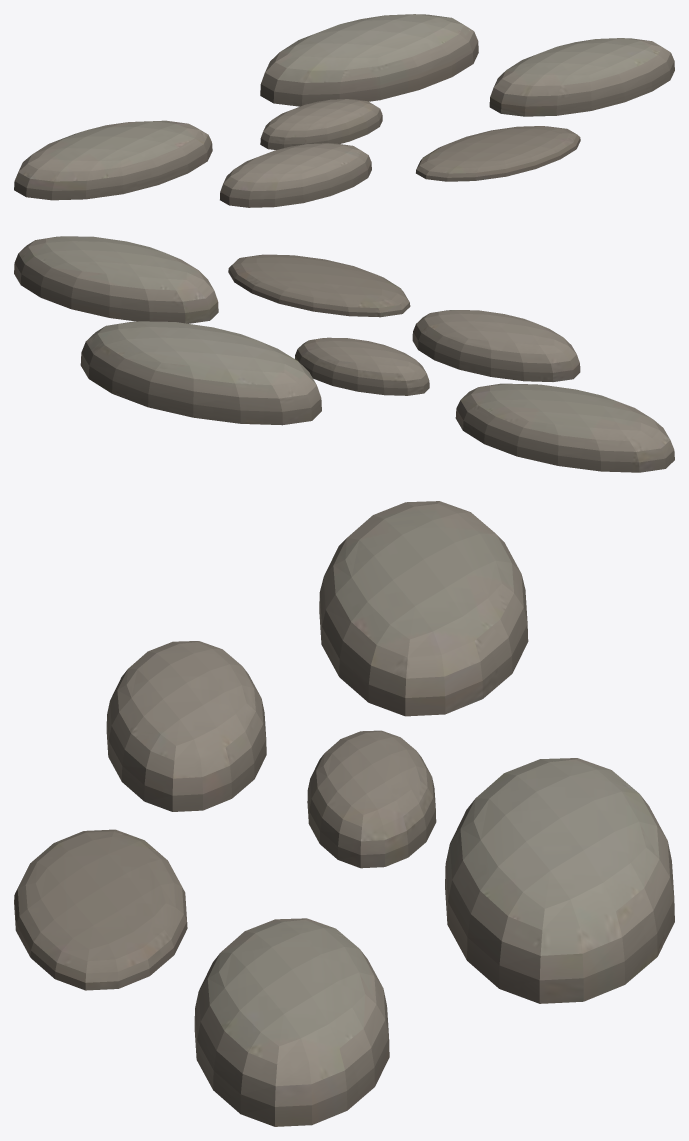
File: pebble_edge.glb
The picture shows the model from 3 angles, top to bottom: view 1: azimuth 30°, elevation 25°; view 2: azimuth 150°, elevation 25°; view 3: azimuth 270°, elevation 25°; orthographic projection. The views are drawn at different scales.
Visible parts, largest first — view 1: pebble_edge; view 2: pebble_edge; view 3: pebble_edge.
Boxes of the visible parts, x1,y1,x2,y2 form: pebble_edge: (14,14,674,207); pebble_edge: (14,236,674,472); pebble_edge: (14,501,674,1126).
Size of the model in its own units: 1.08 by 0.0731 by 0.51.
Materials: 1 (1 with a texture image).
